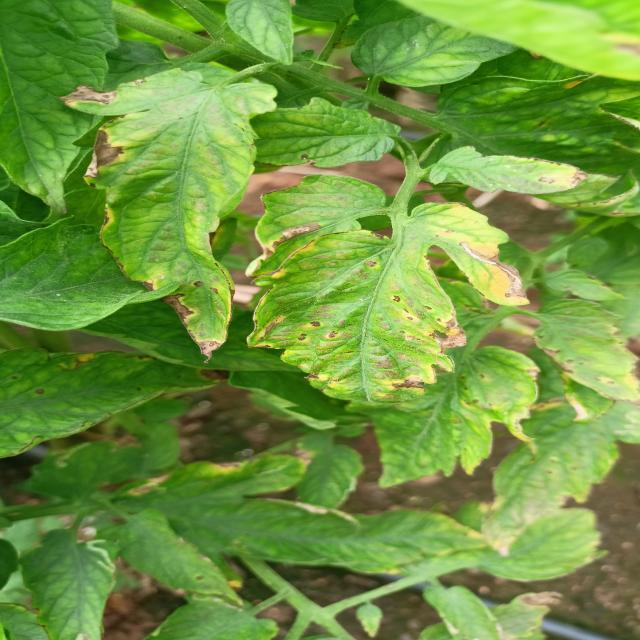Tomato mosaic virus leaf: (52, 66, 273, 364), (240, 212, 540, 406), (421, 142, 618, 198)
